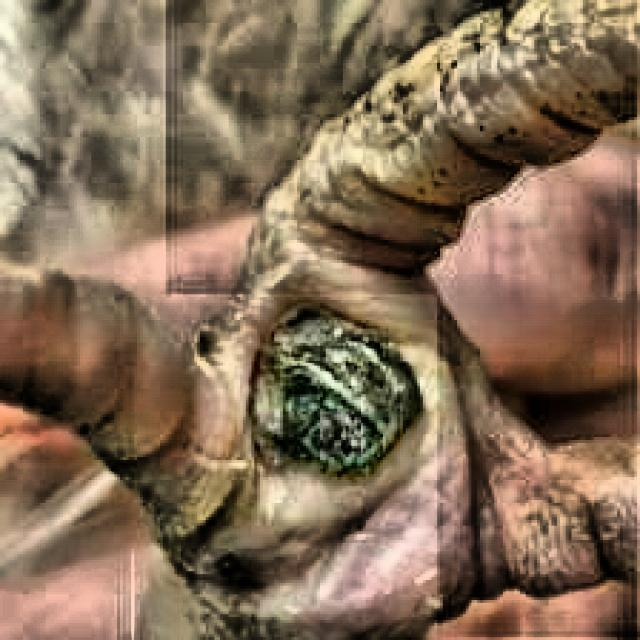Bumble foot: (132, 0, 637, 637), (243, 300, 423, 483)
